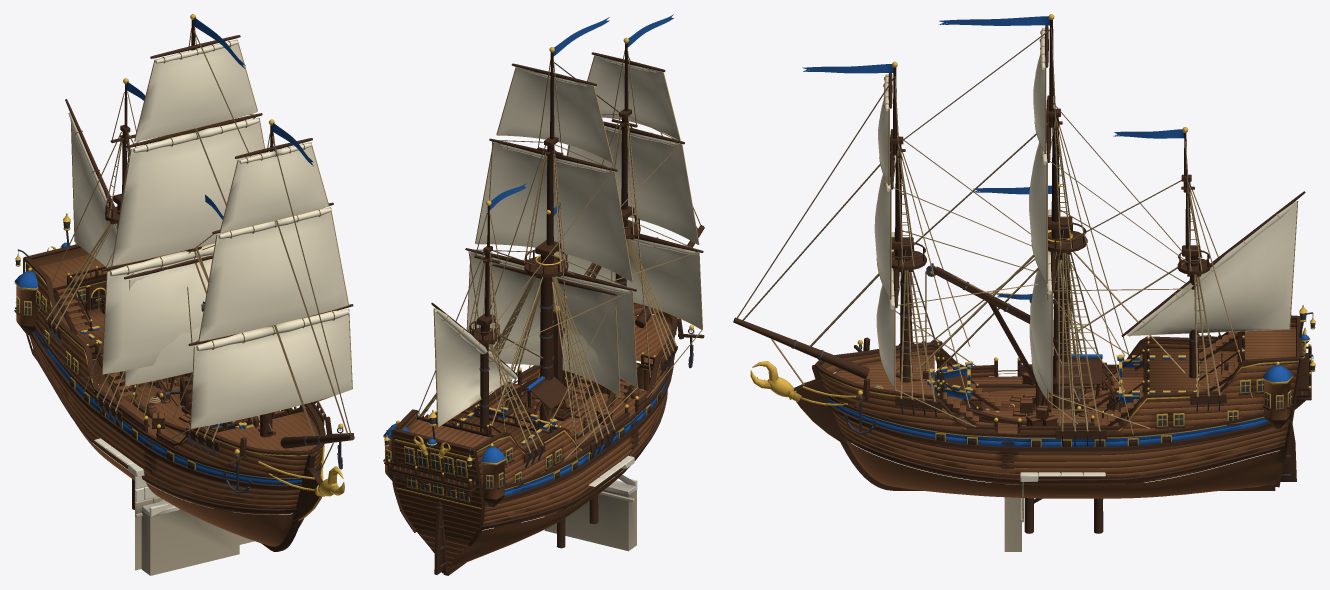
The model's file is tidecrown-harbor.glb.
The picture shows the model from 3 angles, left to right: view 1: azimuth 30°, elevation 25°; view 2: azimuth 150°, elevation 25°; view 3: azimuth 270°, elevation 25°; orthographic projection. The views are drawn at different scales.
Visible parts, largest first — view 1: TC_Galleon_mesh, TC_GalleonFurled_mesh, TC_Quay_12_mesh, TC_Cog_mesh, TC_Quay_12_Plain_mesh, TC_Crane_mesh; view 2: TC_Galleon_mesh, TC_GalleonFurled_mesh, TC_Cog_mesh, TC_Quay_12_mesh, TC_Crane_mesh, TC_Pier_10_mesh; view 3: TC_GalleonFurled_mesh, TC_Galleon_mesh, TC_Cog_mesh, TC_Crane_mesh, TC_Quay_12_mesh, TC_Pier_10_mesh.
Boxes of the visible parts, x1=… form: TC_Galleon_mesh: x1=14, y1=14, x2=354, y2=551; TC_GalleonFurled_mesh: x1=15, y1=14, x2=354, y2=551; TC_Quay_12_mesh: x1=94, y1=438, x2=239, y2=575; TC_Cog_mesh: x1=80, y1=194, x2=275, y2=435; TC_Quay_12_Plain_mesh: x1=96, y1=441, x2=278, y2=570; TC_Crane_mesh: x1=150, y1=301, x2=258, y2=427; TC_Galleon_mesh: x1=383, y1=14, x2=704, y2=575; TC_GalleonFurled_mesh: x1=383, y1=37, x2=703, y2=573; TC_Cog_mesh: x1=457, y1=203, x2=620, y2=445; TC_Quay_12_mesh: x1=544, y1=462, x2=637, y2=551; TC_Crane_mesh: x1=505, y1=264, x2=612, y2=429; TC_Pier_10_mesh: x1=494, y1=489, x2=598, y2=548; TC_GalleonFurled_mesh: x1=733, y1=14, x2=1315, y2=498; TC_Galleon_mesh: x1=733, y1=14, x2=1315, y2=498; TC_Cog_mesh: x1=895, y1=183, x2=1207, y2=425; TC_Crane_mesh: x1=923, y1=263, x2=1116, y2=414; TC_Quay_12_mesh: x1=1004, y1=472, x2=1104, y2=551; TC_Pier_10_mesh: x1=1024, y1=485, x2=1103, y2=533.
Bounding box in the file's own units: 15.09 × 41.96 × 42.06.
